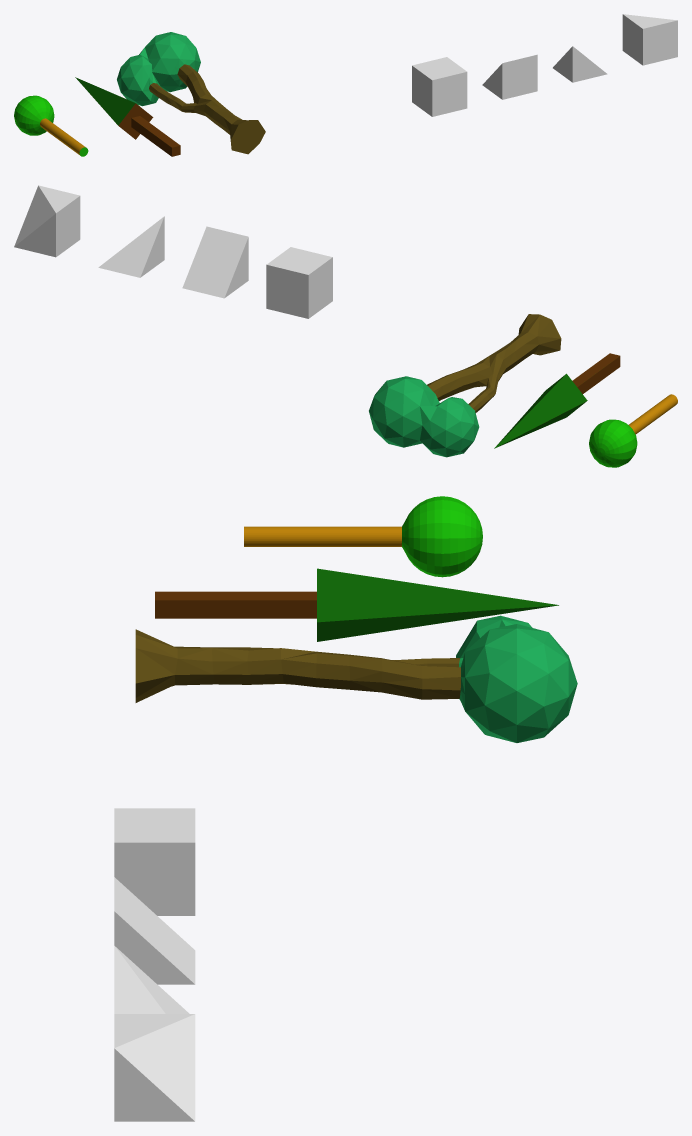
Rendered from land-set-1b.dae.
3 views of the same model, one above another, from view 1: azimuth 30°, elevation 25°; view 2: azimuth 150°, elevation 25°; view 3: azimuth 270°, elevation 25° (orthographic). The views are drawn at different scales.
Parts seen in each view (by area): view 1: tree_3, land_0, land_3, tree_2, tree_1, land_1, land_2; view 2: tree_3, land_0, land_3, land_1, tree_2, tree_1, land_2; view 3: tree_3, tree_2, land_3, tree_1, land_0, land_1, land_2.
Boxes of the visible parts, left/top/right/bottom form: tree_3: left=117, top=32, right=265, bottom=154; land_0: left=412, top=57, right=467, bottom=116; land_3: left=622, top=14, right=677, bottom=65; tree_2: left=75, top=77, right=180, bottom=156; tree_1: left=14, top=95, right=88, bottom=156; land_1: left=482, top=54, right=537, bottom=99; land_2: left=553, top=46, right=607, bottom=82; tree_3: left=369, top=314, right=561, bottom=457; land_0: left=266, top=247, right=332, bottom=318; land_3: left=14, top=185, right=80, bottom=257; land_1: left=182, top=226, right=248, bottom=298; tree_2: left=494, top=353, right=620, bottom=448; tree_1: left=589, top=394, right=677, bottom=467; land_2: left=98, top=216, right=164, bottom=277; tree_3: left=135, top=615, right=577, bottom=742; tree_2: left=155, top=568, right=558, bottom=641; land_3: left=114, top=1014, right=195, bottom=1121; tree_1: left=244, top=496, right=482, bottom=577; land_0: left=114, top=808, right=195, bottom=915; land_1: left=114, top=877, right=195, bottom=984; land_2: left=114, top=946, right=189, bottom=1013.
Bounding box in the file's own units: 16.5 × 5.72 × 1.6.
Materials: 3 (3 with a texture image).
